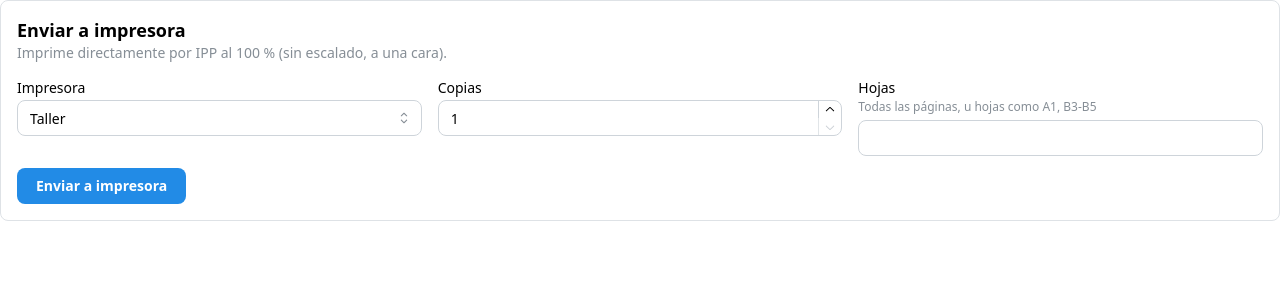
Test case: PrintToPrinter › sends the job to the chosen IPP printer with copies and sheets
This screenshot has width=1280, height=305.
Check: the field labelled "Impresora" holds "Taller", box [17,100,422,136]
Replace the text in the field labelled "Copias" with "3": (640, 118) [438,100,842,136]
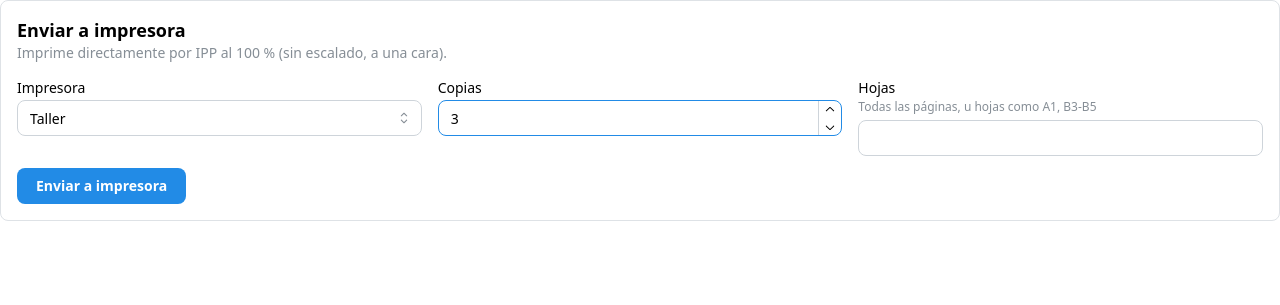
In the field labelled "Hojas": (1061, 138) [858,120,1263,156], type "A1, A2"
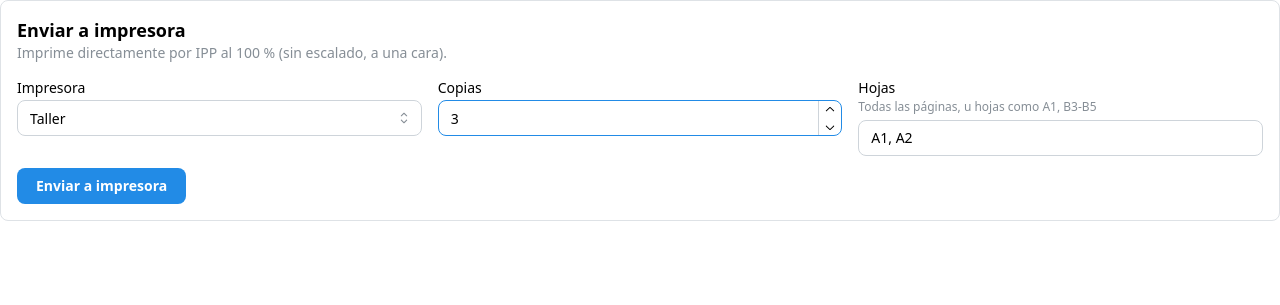
Click the button with test id "send-to-printer": click(102, 186) [17,168,186,204]
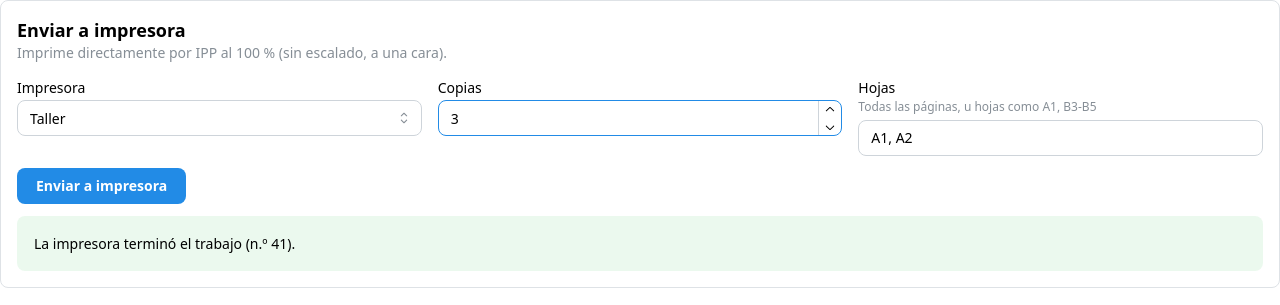
Check: the message with test id "print-done" shows "n.º 41", box [34,234,295,253]
